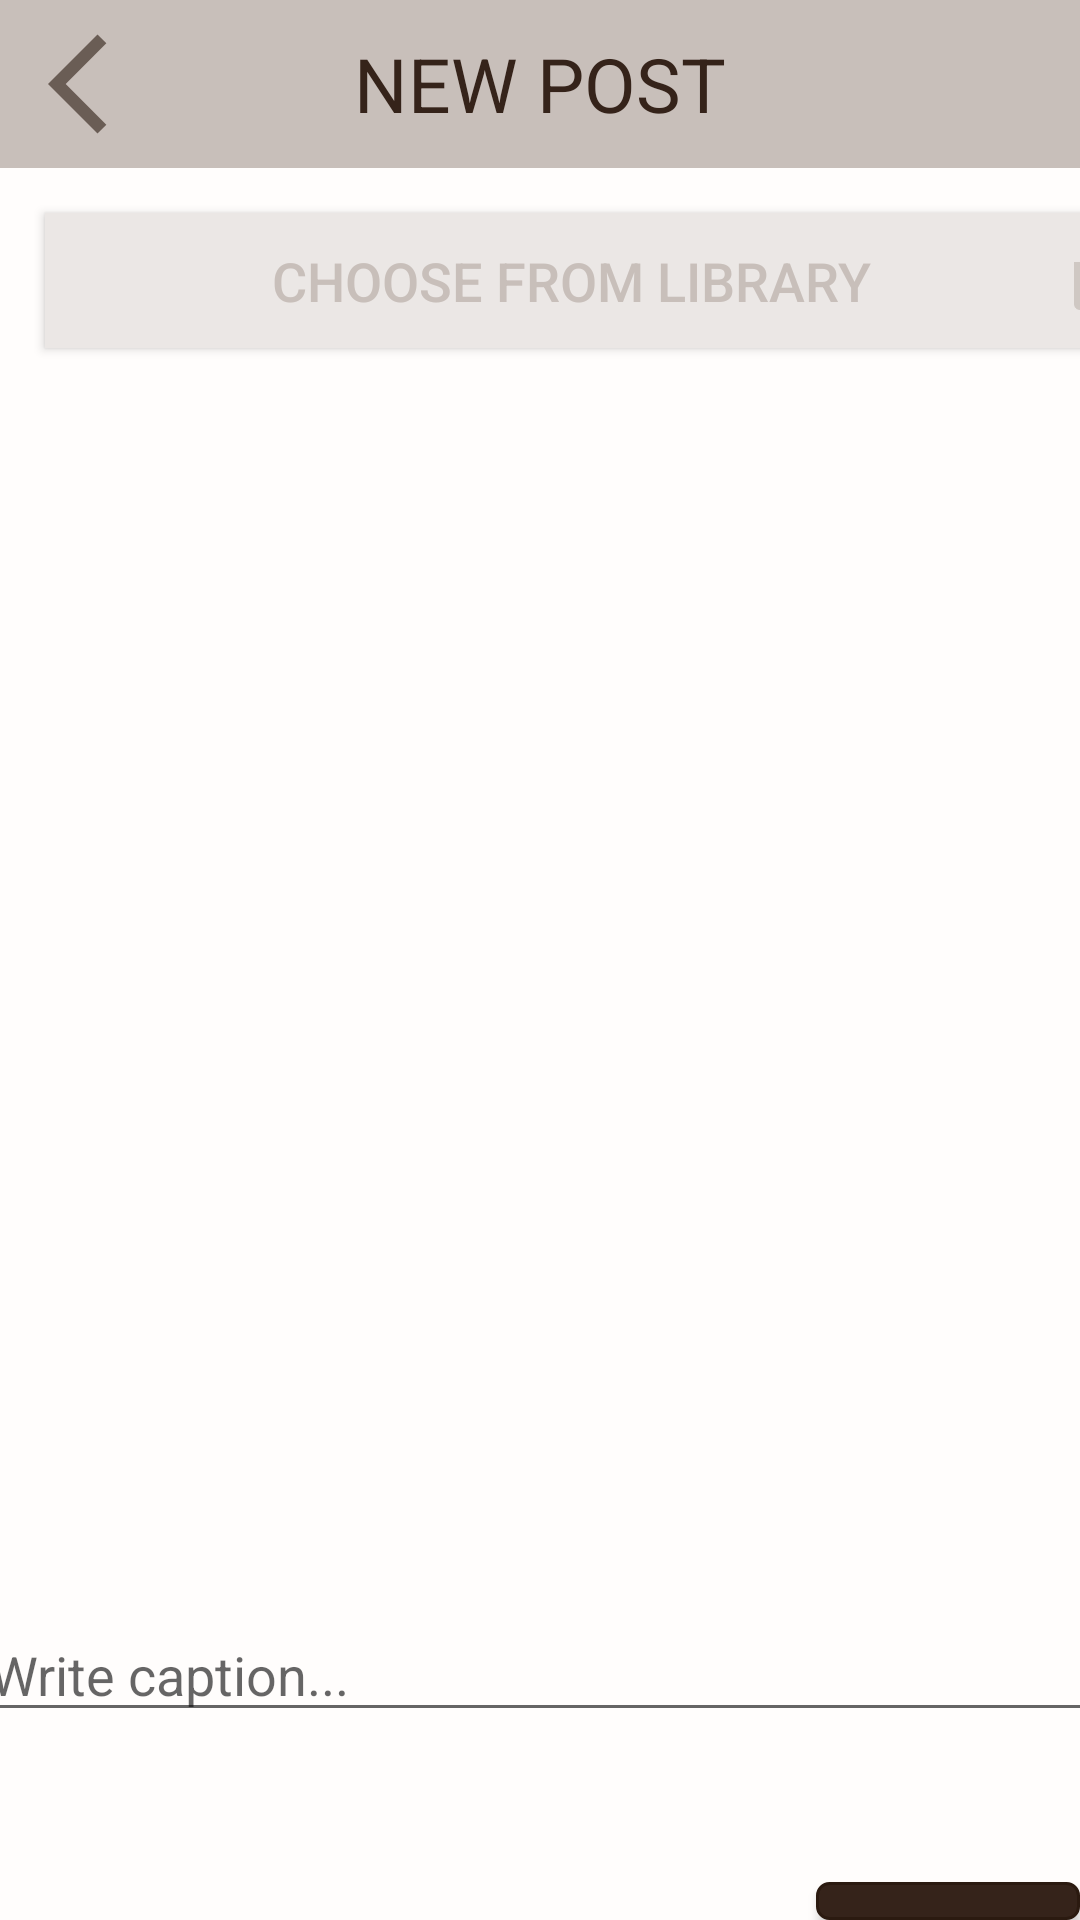

Named icons in this screenshot (1080 × 1920) and their bounding boxes, [x1,y1,x2,y2]:
back: [48,34,106,134]
